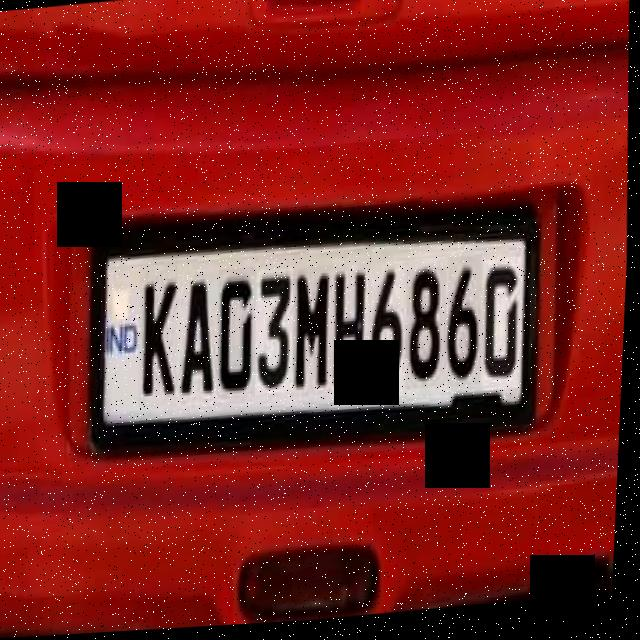0: (481, 262, 529, 396), (217, 269, 262, 402)
3: (255, 270, 300, 398)
6: (368, 265, 411, 405), (446, 260, 489, 393)
8: (405, 272, 453, 394)
A: (180, 265, 224, 406)
H: (330, 259, 376, 401)
K: (136, 258, 185, 409)
M: (292, 270, 338, 401)
